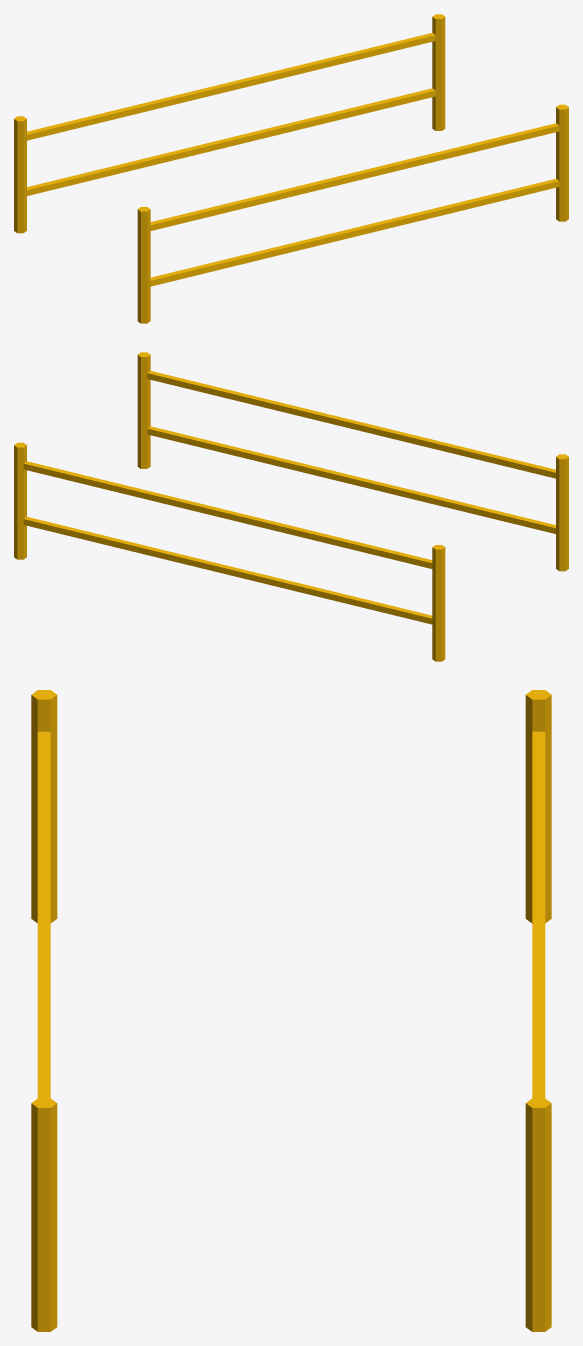
Rendered from Scaffold_Rails_2_Yellow_01.FBX.
3 renders of one model, top to bottom at view 1: azimuth 30°, elevation 25°; view 2: azimuth 150°, elevation 25°; view 3: azimuth 270°, elevation 25°, orthographic. The views are drawn at different scales.
Parts seen in each view (by area): view 1: Scaffold_Rails_2_Yellow_01; view 2: Scaffold_Rails_2_Yellow_01; view 3: Scaffold_Rails_2_Yellow_01.
Part boxes in pixels (x1,y1,x2,y2): Scaffold_Rails_2_Yellow_01: [14, 14, 568, 323]; Scaffold_Rails_2_Yellow_01: [14, 352, 568, 661]; Scaffold_Rails_2_Yellow_01: [31, 690, 551, 1331].
Size of the model in its own units: 7260 by 1815 by 3821.
